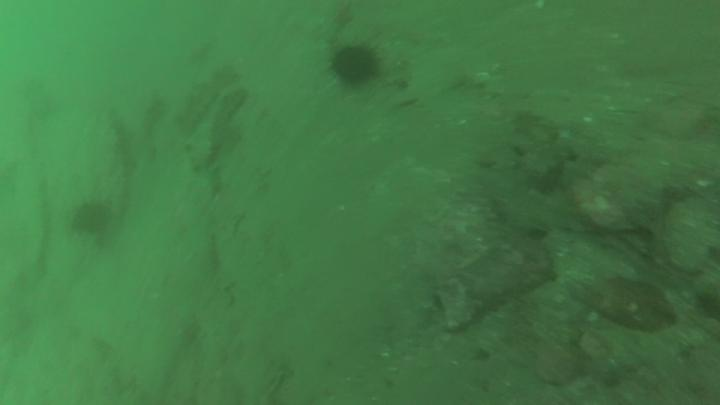echinus: (333, 49, 379, 82), (72, 209, 111, 234)
